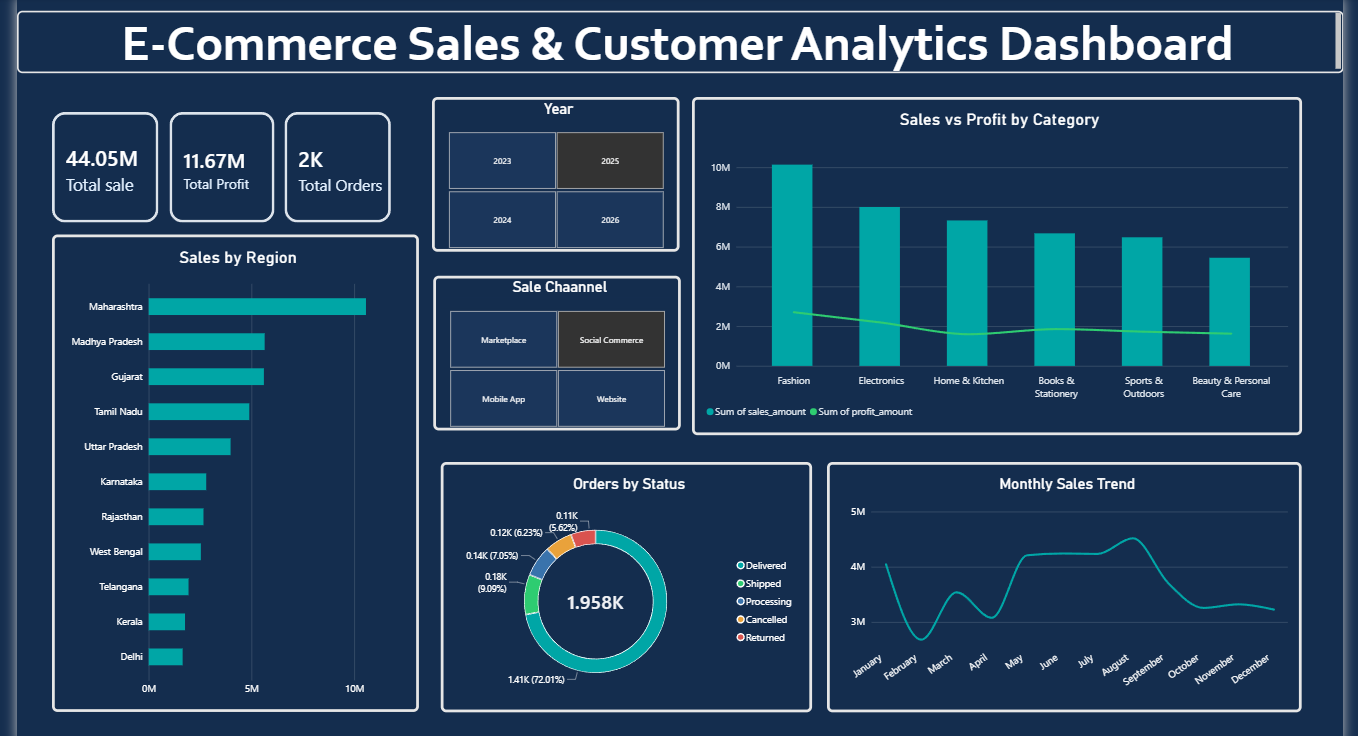

The dashboard page shown, as its layout file describes it:
{"tool":"powerbi","page":{"name":"Key Insights","canvas":[1920,1080],"ordinal":0},"visuals":[{"type":"cardVisual","fields":{"Data":["orders.Total Profit"]},"box":[220.2,166.7,152.3,160.5],"z":0},{"type":"lineChart","title":"\tMonthly Sales Trend","fields":{"Category":["orders.order_date.Variation.Date Hierarchy.Month"],"Y":["Sum(orders.sales_amount)"]},"box":[1173.2,673.1,687.5,362.3],"z":1000},{"type":"barChart","title":"\tSales by Region","fields":{"Category":["orders.region"],"Y":["Sum(orders.sales_amount)"]},"box":[51.5,343.7,531,691.6],"z":2000},{"type":"donutChart","title":"\tOrders by Status","fields":{"Category":["orders.order_status"],"Y":["Count(orders.order_id)"]},"box":[613.4,673.1,537.2,362.3],"z":3000},{"type":"lineClusteredColumnComboChart","title":"\tSales vs Profit by Category","fields":{"Category":["products.category"],"Y":["Sum(orders.sales_amount)"],"Y2":["Sum(orders.profit_amount)"]},"box":[977.2,144.8,883,489.9],"z":4000},{"type":"slicer","title":"Sale Chaannel","fields":{"Values":["orders.sales_channel"]},"box":[602.6,403.6,358.3,224.4],"z":5000},{"type":"textbox","box":[0,19.9,1920.4,90.6],"z":6000},{"type":"cardVisual","fields":{"Data":["customers.Total sale"]},"box":[51.5,166.7,154.4,160.5],"z":7000},{"type":"cardVisual","fields":{"Data":["orders.Total Orders"]},"box":[387,166.7,154.4,160.5],"z":8000},{"type":"slicer","title":"Year","fields":{"Values":["orders.order_date.Variation.Date Hierarchy.Year"]},"box":[600.8,144.8,358.3,224.4],"z":11000}]}

Visuals, with their boxes in screenshot pixels (x1, y1, x2, y2):
cardVisual - orders.Total Profit: <bbox>160, 105, 266, 217</bbox>
"	Monthly Sales Trend" lineChart: <bbox>824, 458, 1303, 710</bbox>
"	Sales by Region" barChart: <bbox>43, 229, 413, 710</bbox>
"	Orders by Status" donutChart: <bbox>434, 458, 808, 710</bbox>
"	Sales vs Profit by Category" lineClusteredColumnComboChart: <bbox>688, 90, 1302, 431</bbox>
"Sale Chaannel" slicer: <bbox>427, 270, 676, 427</bbox>
textbox: <bbox>7, 3, 1344, 66</bbox>
cardVisual - customers.Total sale: <bbox>43, 105, 150, 217</bbox>
cardVisual - orders.Total Orders: <bbox>277, 105, 384, 217</bbox>
"Year" slicer: <bbox>425, 90, 675, 246</bbox>
